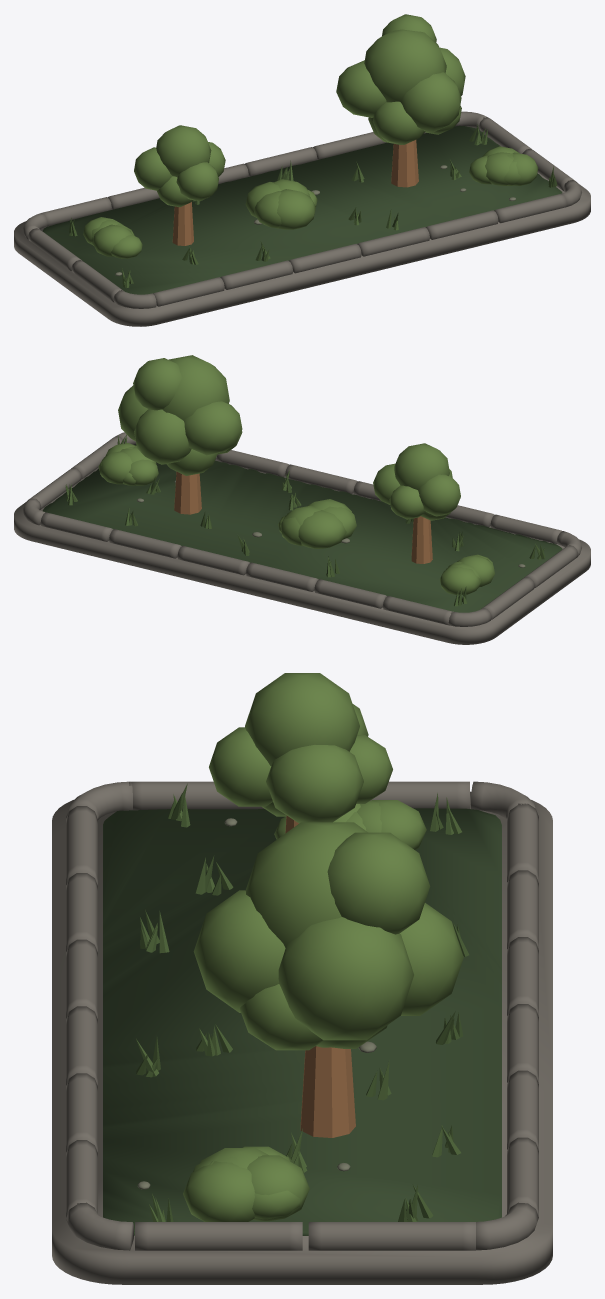
Rendered from 16-grass-patch.glb.
The picture shows the model from 3 angles, top to bottom: view 1: azimuth 30°, elevation 25°; view 2: azimuth 150°, elevation 25°; view 3: azimuth 270°, elevation 25°; orthographic projection. The views are drawn at different scales.
Visible parts, largest first — view 1: GrassTop, CurbRim, Slab, BigCan0, BigCan3, SmCan0, BigCan2, BigCan5, BushA3, SmCan3, TrunkBig, SmCan2 (+11 smaller); view 2: GrassTop, CurbRim, Slab, BigCan0, BigCan2, BigCan4, BigCan8, SmCan0, BushA2, SmCan2, TrunkBig, BushC6 (+10 smaller); view 3: GrassTop, CurbRim, Slab, BigCan1, BigCan0, BigCan8, SmCan0, BigCan3, SmCan1, BigCan4, TrunkBig, BushB2 (+6 smaller).
Part boxes in pixels (box(x1,y1,x2,y2)): GrassTop: box(42, 125, 562, 294); CurbRim: box(23, 111, 581, 308); Slab: box(14, 126, 590, 326); BigCan0: box(364, 29, 446, 102); BigCan3: box(400, 72, 461, 132); SmCan0: box(156, 125, 211, 176); BigCan2: box(336, 60, 386, 117); BigCan5: box(372, 101, 425, 144); BushA3: box(277, 189, 315, 229); SmCan3: box(176, 162, 218, 201); TrunkBig: box(391, 140, 418, 187); SmCan2: box(134, 147, 172, 190); GrassTop: box(42, 444, 562, 612); CurbRim: box(23, 432, 581, 626); Slab: box(14, 459, 590, 644); BigCan0: box(162, 355, 229, 420); BigCan2: box(184, 401, 242, 455); BigCan4: box(134, 409, 191, 464); BigCan8: box(133, 358, 182, 410); SmCan0: box(394, 443, 449, 490); BushA2: box(298, 510, 346, 548); SmCan2: box(418, 474, 460, 516); TrunkBig: box(174, 471, 201, 514); BushC6: box(439, 567, 480, 595); GrassTop: box(103, 808, 501, 1235); CurbRim: box(66, 781, 538, 1250); Slab: box(52, 791, 552, 1284); BigCan1: box(278, 917, 413, 1040); BigCan0: box(245, 822, 367, 947); BigCan8: box(327, 832, 430, 934); SmCan0: box(245, 673, 359, 765); BigCan3: box(193, 890, 285, 1012); SmCan1: box(266, 745, 363, 823); BigCan4: box(400, 903, 463, 1015); TrunkBig: box(300, 1046, 355, 1137); BushB2: box(183, 1161, 254, 1221).
Bounding box in the file's own units: 2.2 × 0.742 × 1.
